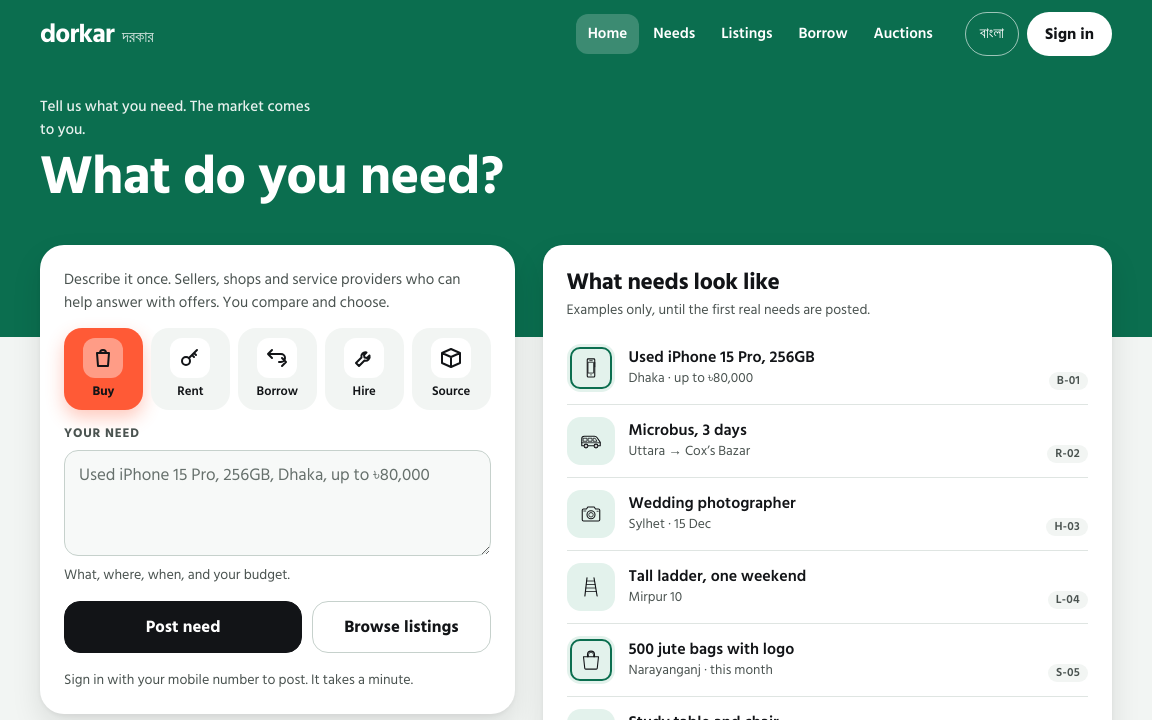
it: home › switches to Bangla without losing what was typed
Type "A tall ladder" into the text box labelled "Your need" at (277, 503), box [65, 451, 490, 555]
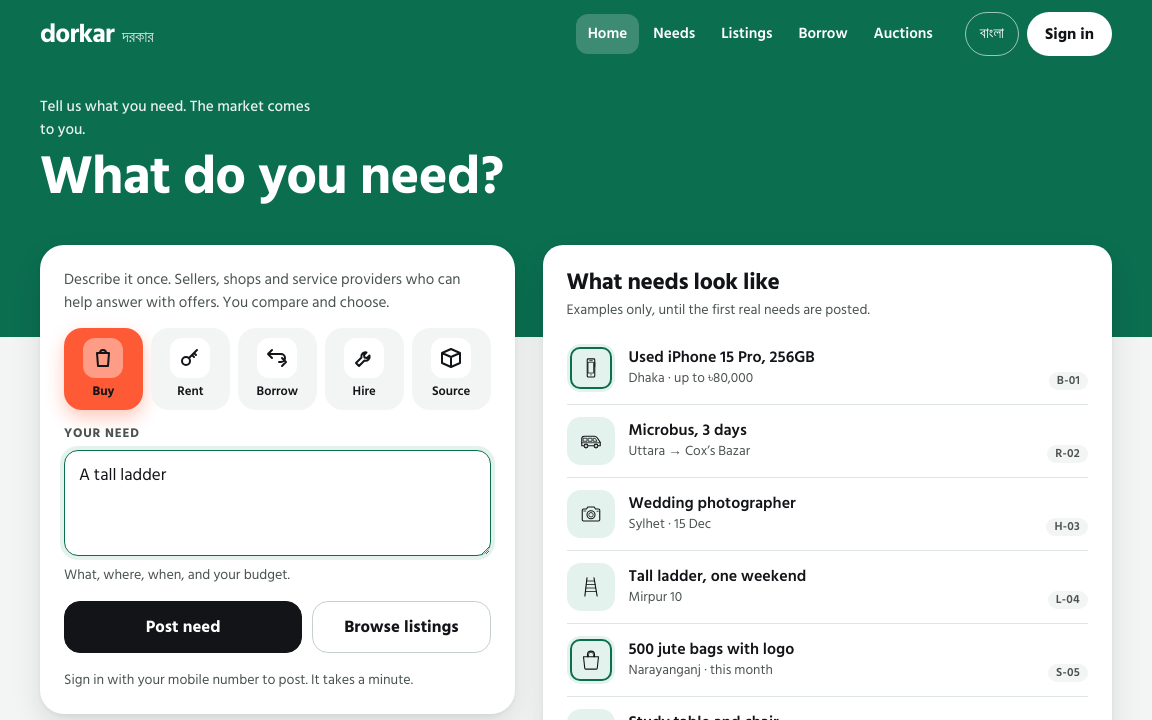
Click the button named "Switch to Bangla" at (992, 34), box [965, 12, 1019, 56]
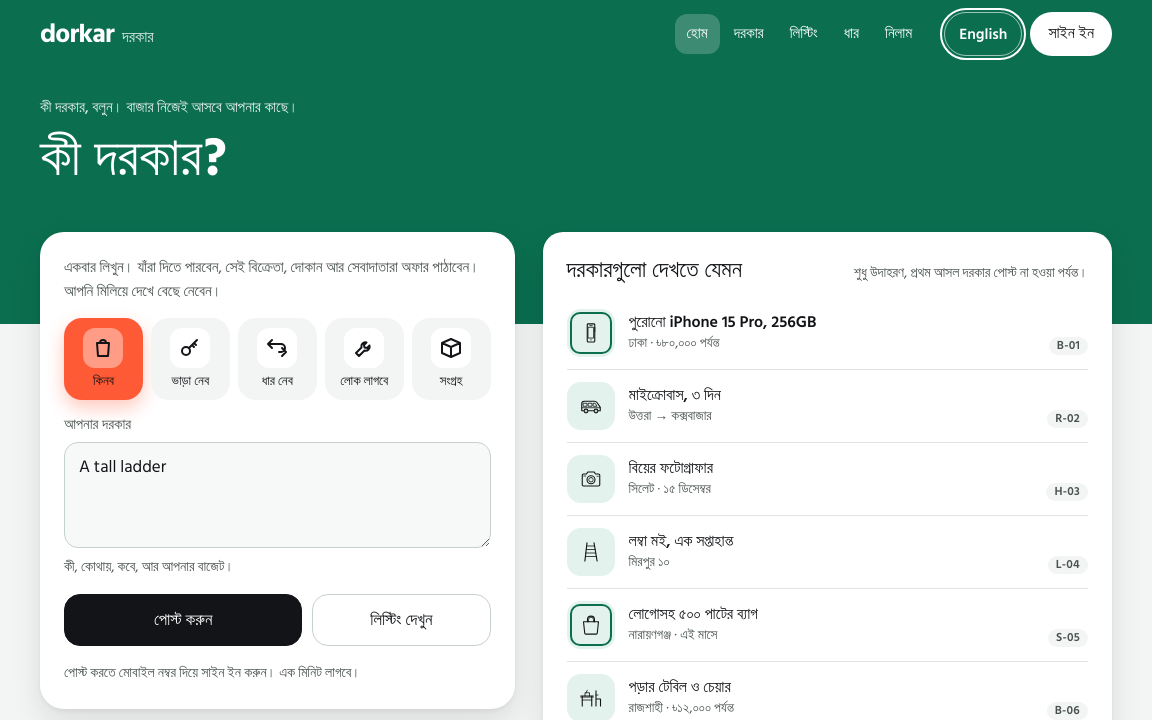
expect the heading "কী দরকার?" is shown: met, box [40, 114, 227, 202]
